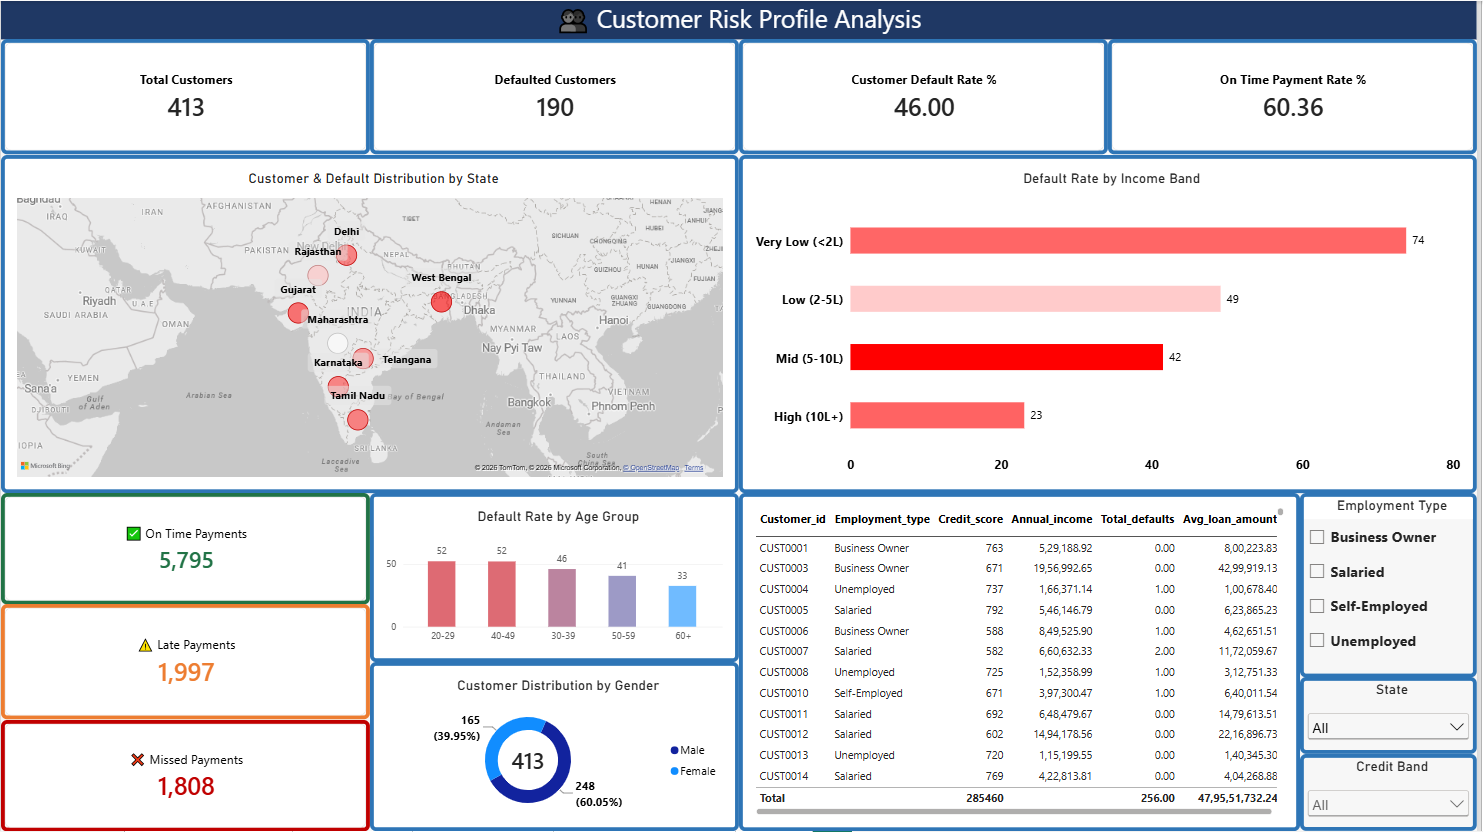

The page's visual inventory and layout, read from the dashboard file:
{"tool":"powerbi","page":{"name":"Customer Analysis","canvas":[1920,1080],"ordinal":2},"visuals":[{"type":"textbox","box":[0,0,1920,50],"z":0},{"type":"cardVisual","fields":{"Data":["bank_loan vw_customer_risk.Total Customers"]},"box":[0,50,480,150],"z":1},{"type":"cardVisual","fields":{"Data":["bank_loan vw_customer_risk.Defaulted Customers"]},"box":[480.1,50,480,150],"z":2},{"type":"cardVisual","fields":{"Data":["bank_loan vw_customer_risk.Customer Default Rate %"]},"box":[960.3,50,480,150],"z":3},{"type":"cardVisual","fields":{"Data":["bank_loan vw_customer_risk.On Time Rate %"]},"box":[1440.4,50,480,150],"z":4},{"type":"map","title":"Customer & Default Distribution by State","fields":{"Category":["bank_loan vw_loan_portfolio.state"],"Size":["bank_loan vw_customer_risk.Total Customers"]},"box":[0,200,960,440],"z":5},{"type":"clusteredBarChart","title":"Default Rate  by Income Band","fields":{"Category":["bank_loan vw_customer_risk.income_band"],"Y":["bank_loan vw_customer_risk.Customer Default Rate %"]},"box":[960.3,200,960,440],"z":6},{"type":"cardVisual","fields":{"Data":["bank_loan vw_customer_risk.On Time Payments"]},"box":[0,640.2,480.1,145],"z":7},{"type":"cardVisual","fields":{"Data":["bank_loan vw_customer_risk.Late Payments"]},"box":[0,785,480,150],"z":8},{"type":"cardVisual","fields":{"Data":["bank_loan vw_customer_risk.Missed Payments"]},"box":[0,935.6,480,145],"z":9},{"type":"clusteredColumnChart","title":"Default Rate by Age Group","fields":{"Category":["bank_loan vw_customer_risk.age_group"],"Y":["bank_loan vw_customer_risk.Customer Default Rate %"]},"box":[480.1,640.2,480.1,220],"z":10},{"type":"donutChart","title":"Customer Distribution by Gender","fields":{"Category":["bank_loan vw_customer_risk.gender"],"Y":["bank_loan vw_customer_risk.Total Customers"]},"box":[480.1,860.1,480,220],"z":11},{"type":"tableEx","fields":{"Values":["bank_loan vw_customer_risk.customer_id","bank_loan vw_customer_risk.employment_type","Sum(bank_loan vw_customer_risk.credit_score)","bank_loan vw_customer_risk.annual_income","Sum(bank_loan vw_customer_risk.total_defaults)","Sum(bank_loan vw_customer_risk.avg_loan_amount)"]},"box":[960.3,640.2,730,440],"z":12},{"type":"slicer","title":"Employment Type","fields":{"Values":["bank_loan vw_customer_risk.employment_type"]},"box":[1690,640,230,240],"z":13},{"type":"slicer","title":"Credit Band","fields":{"Values":["bank_loan vw_customer_risk.credit_band"]},"box":[1690,980,230,100],"z":14},{"type":"slicer","title":"State","fields":{"Values":["bank_loan vw_customer_risk.state"]},"box":[1690,880,230,100],"z":15}]}

Visuals, with their boxes in screenshot pixels (x1, y1, x2, y2), scaled from the page's 1920x1080 canvas onto the 1483x832 screenshot:
textbox: locate(0, 0, 1482, 39)
cardVisual - bank_loan vw_customer_risk.Total Customers: locate(0, 39, 371, 154)
cardVisual - bank_loan vw_customer_risk.Defaulted Customers: locate(371, 39, 742, 154)
cardVisual - bank_loan vw_customer_risk.Customer Default Rate %: locate(742, 39, 1112, 154)
cardVisual - bank_loan vw_customer_risk.On Time Rate %: locate(1113, 39, 1482, 154)
"Customer & Default Distribution by State" map: locate(0, 154, 742, 493)
"Default Rate  by Income Band" clusteredBarChart: locate(742, 154, 1482, 493)
cardVisual - bank_loan vw_customer_risk.On Time Payments: locate(0, 493, 371, 605)
cardVisual - bank_loan vw_customer_risk.Late Payments: locate(0, 605, 371, 720)
cardVisual - bank_loan vw_customer_risk.Missed Payments: locate(0, 721, 371, 831)
"Default Rate by Age Group" clusteredColumnChart: locate(371, 493, 742, 663)
"Customer Distribution by Gender" donutChart: locate(371, 663, 742, 831)
tableEx - bank_loan vw_customer_risk.customer_id x bank_loan vw_customer_risk.employment_type: locate(742, 493, 1306, 831)
"Employment Type" slicer: locate(1305, 493, 1482, 678)
"Credit Band" slicer: locate(1305, 755, 1482, 831)
"State" slicer: locate(1305, 678, 1482, 755)
